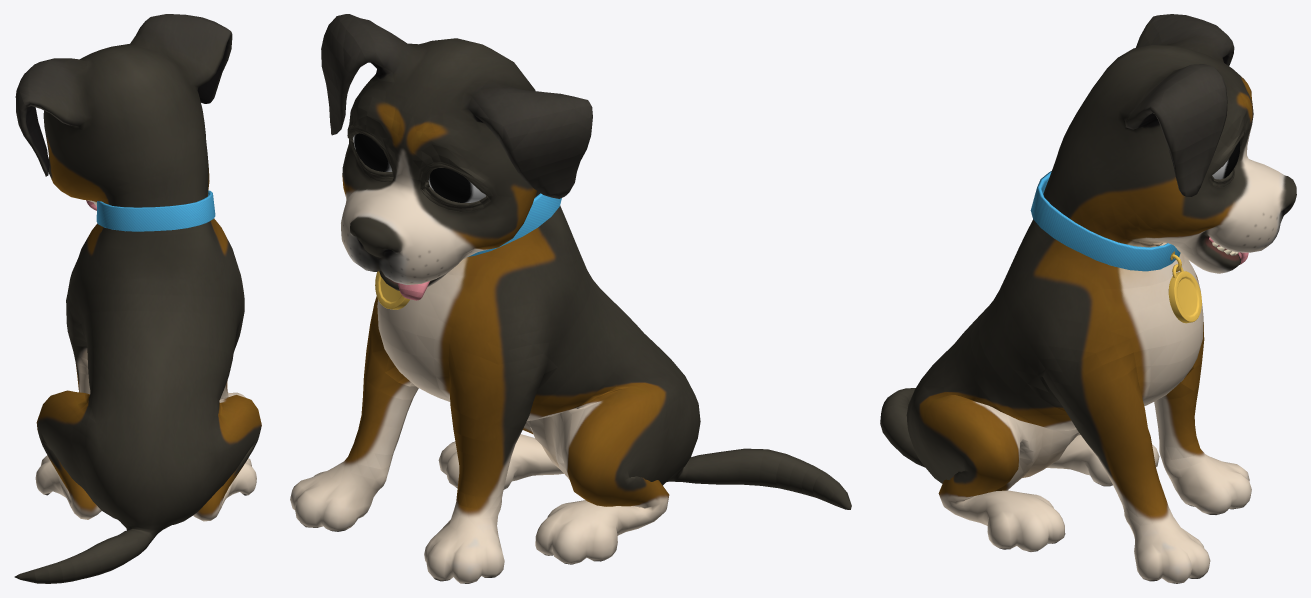
Rendered from Puppy.fbx.
The picture shows the model from 3 angles, left to right: view 1: azimuth 30°, elevation 25°; view 2: azimuth 150°, elevation 25°; view 3: azimuth 270°, elevation 25°; orthographic projection. The views are drawn at different scales.
Parts seen in each view (by area): view 1: Mesh_0.001; view 2: Mesh_0.001; view 3: Mesh_0.001.
Boxes of the visible parts, bbox=[...] form: Mesh_0.001: bbox=[14, 14, 261, 583]; Mesh_0.001: bbox=[290, 14, 851, 583]; Mesh_0.001: bbox=[880, 14, 1296, 583].
Size of what is drawn, in the model's own units: 1.32 by 1.19 by 1.53.
Materials: 2 (2 with a texture image).
